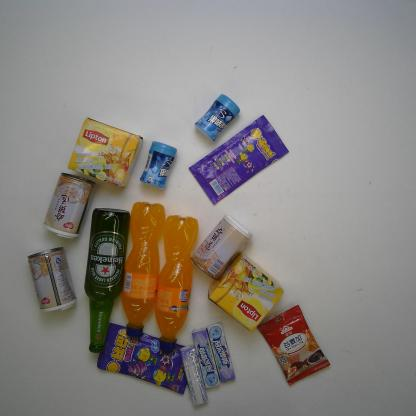Alcohol: (83, 206, 131, 355)
Candy: (188, 115, 288, 204), (97, 321, 191, 397), (191, 328, 221, 389), (206, 323, 236, 384), (180, 346, 207, 406)
Canned Food: (191, 214, 253, 282), (44, 171, 97, 240), (24, 248, 78, 314)
Drink: (121, 202, 168, 337), (155, 214, 200, 350)
Gum: (192, 94, 240, 140), (140, 140, 178, 190)
Instant Drink: (258, 301, 330, 387), (208, 253, 283, 331), (68, 114, 142, 190)
